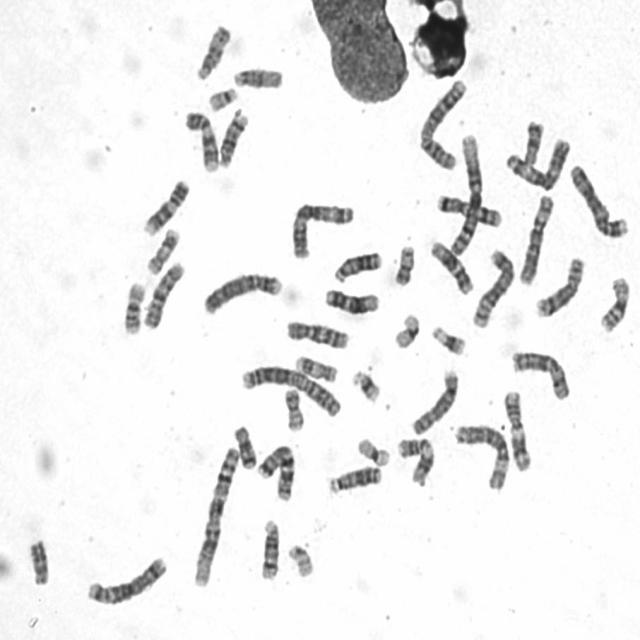A1: (192, 446, 240, 587), (449, 133, 483, 257)
A2: (241, 366, 342, 418), (418, 79, 468, 172)
A3: (290, 203, 356, 260), (505, 136, 572, 192)
B4: (570, 165, 630, 240), (203, 273, 283, 316)
B5: (86, 553, 168, 607), (472, 248, 516, 328)
C10: (143, 262, 186, 330), (286, 320, 350, 352)
C11: (504, 389, 531, 472), (395, 437, 436, 488)
C12: (429, 240, 474, 295), (324, 288, 381, 316)
C6: (455, 424, 510, 492), (518, 193, 554, 286)
C7: (436, 194, 504, 230), (256, 444, 296, 505)
C8: (534, 256, 586, 320), (411, 368, 459, 436)
C9: (143, 178, 191, 236), (183, 110, 220, 172)
D13: (332, 251, 383, 284), (328, 465, 382, 495)
D14: (219, 110, 251, 168), (260, 516, 283, 582)
D15: (196, 22, 230, 82), (232, 66, 285, 88)
E16: (600, 276, 631, 334), (122, 282, 146, 336)
E17: (146, 227, 181, 276), (295, 356, 339, 384)
E18: (522, 122, 545, 166), (234, 425, 256, 468)
F19: (393, 312, 421, 351), (356, 437, 391, 467)
F20: (393, 245, 417, 288), (284, 388, 306, 432)
G21: (431, 326, 467, 356), (352, 370, 381, 405)
G22: (288, 542, 314, 580), (206, 86, 238, 112)
X: (511, 351, 570, 402)
Y: (29, 539, 50, 586)
